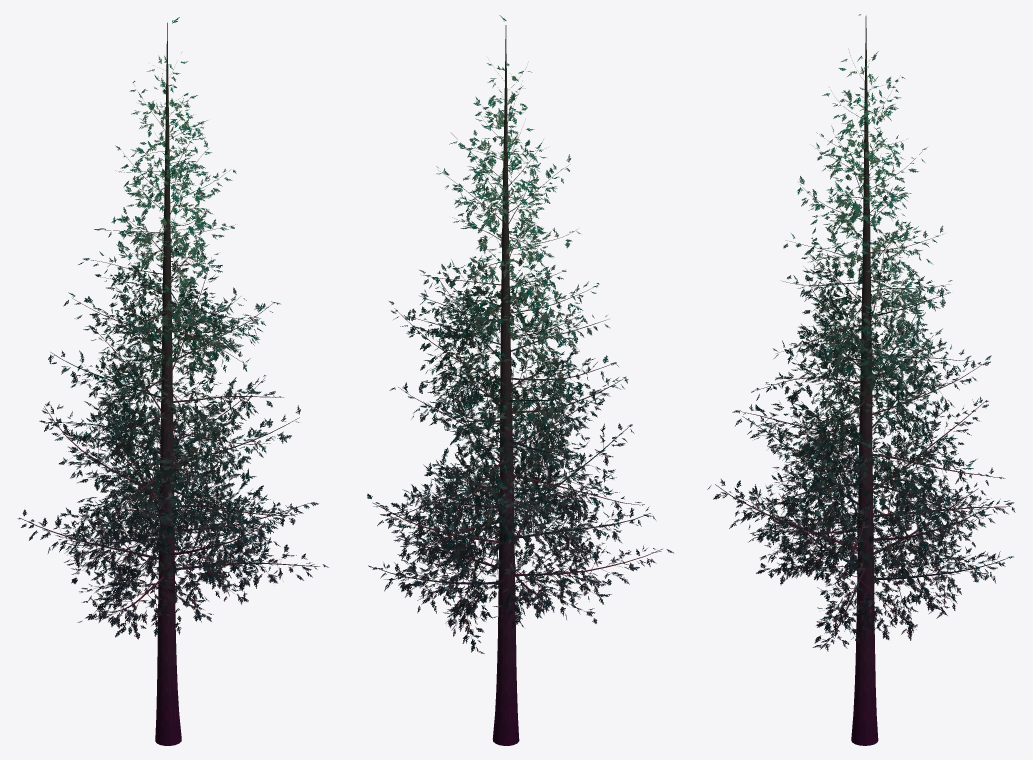
The model's file is asset.glb.
3 views of the same model, side by side, from view 1: azimuth 30°, elevation 25°; view 2: azimuth 150°, elevation 25°; view 3: azimuth 270°, elevation 25° (orthographic).
Parts seen in each view (by area): view 1: douglas_fir_LOD0; view 2: douglas_fir_LOD0; view 3: douglas_fir_LOD0.
Boxes of the visible parts, box(x1,y1,x2,y2) form: douglas_fir_LOD0: box(17, 17, 328, 745); douglas_fir_LOD0: box(367, 15, 673, 745); douglas_fir_LOD0: box(707, 14, 1015, 745).
Size of the model in its own units: 12.92 by 32.91 by 12.79.
2 materials, 2 textured.
